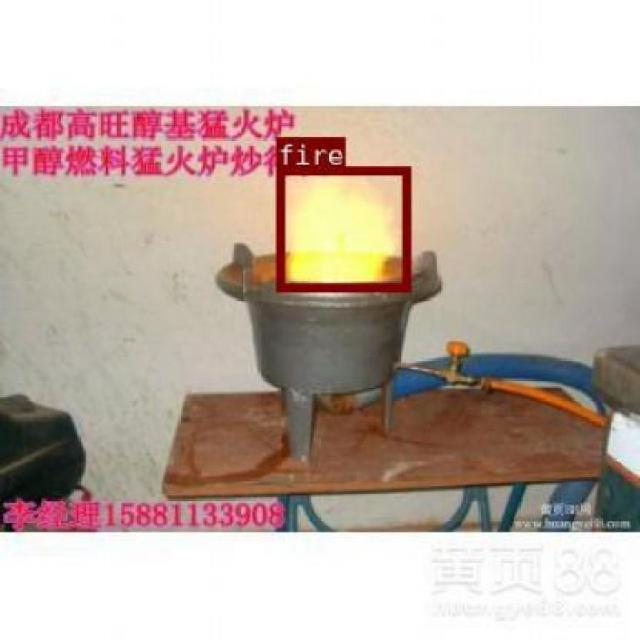Fire: (276, 164, 409, 290)
